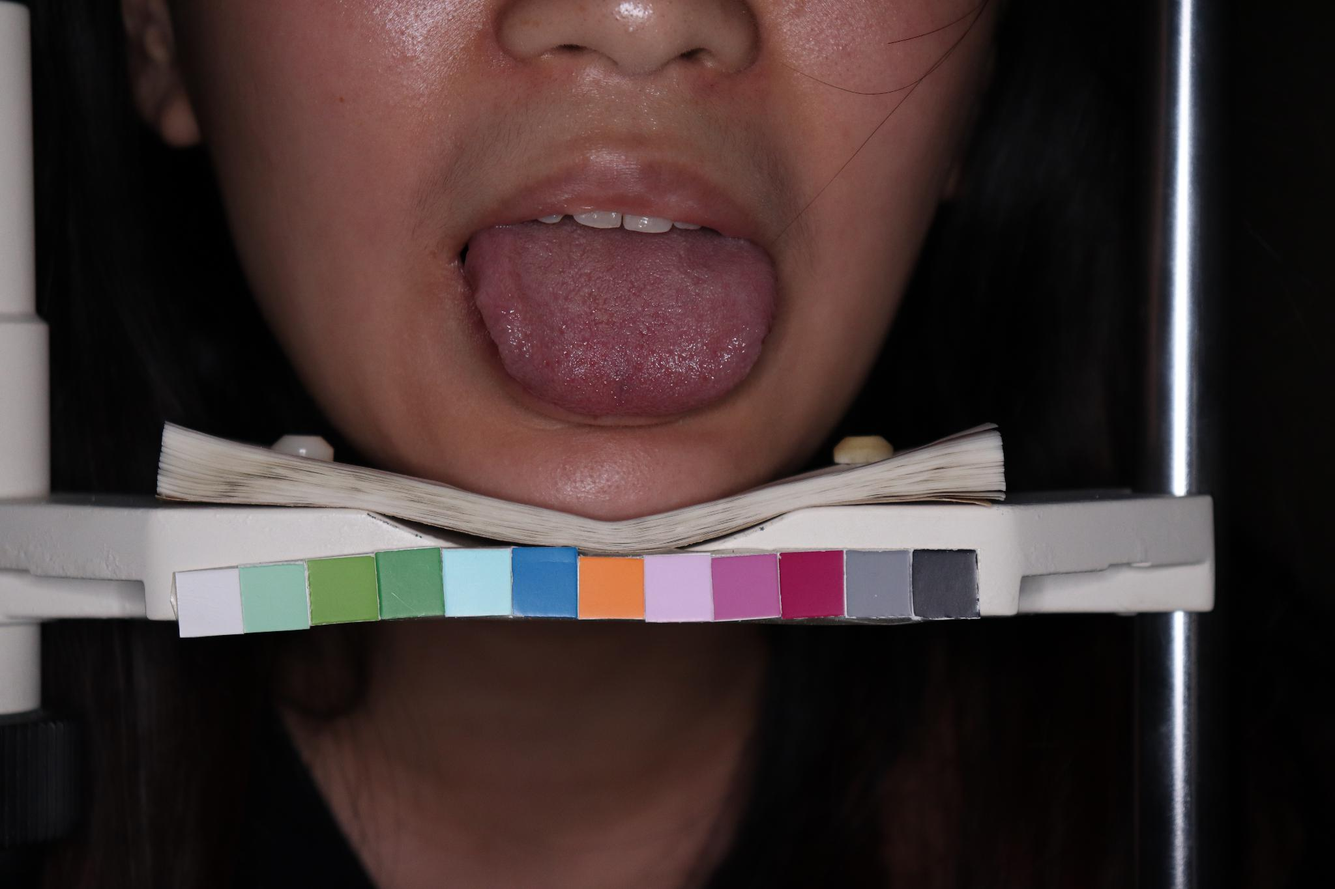baitaishe: (465, 218, 776, 417)
chihenshe: (466, 238, 510, 369)
hongdianshe: (540, 349, 689, 405)
zishe: (465, 218, 776, 417)
